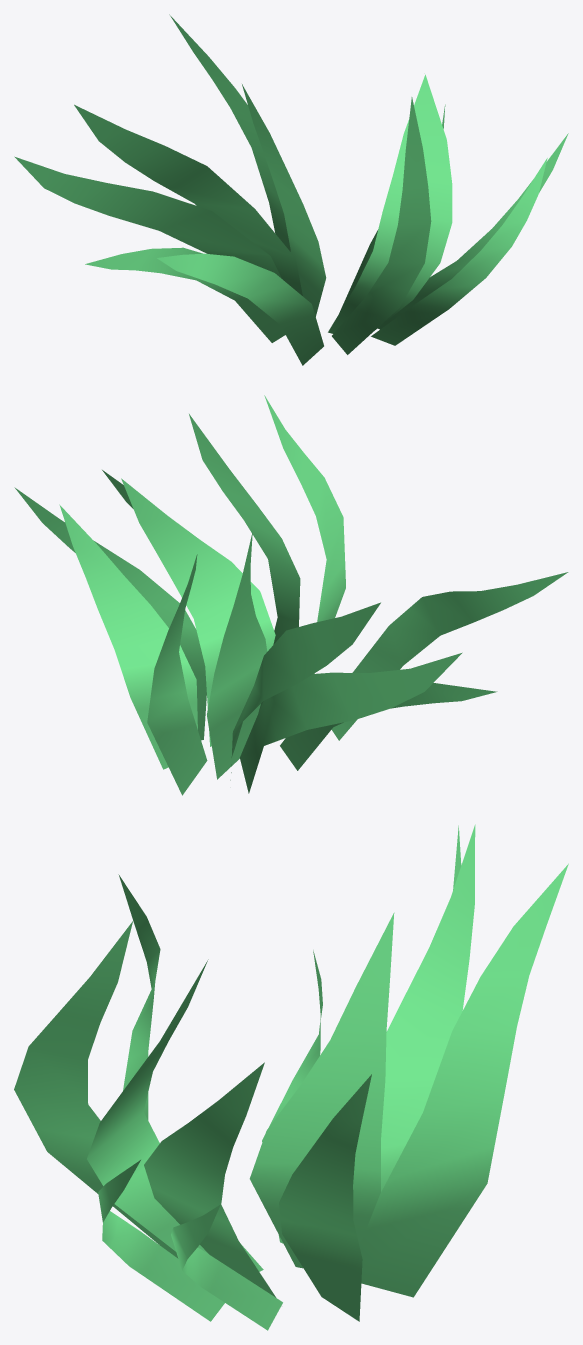
File: Grass03.fbx
The picture shows the model from 3 angles, top to bottom: view 1: azimuth 30°, elevation 25°; view 2: azimuth 150°, elevation 25°; view 3: azimuth 270°, elevation 25°; orthographic projection. The views are drawn at different scales.
Parts seen in each view (by area): view 1: Grass03_LOD0; view 2: Grass03_LOD0; view 3: Grass03_LOD0.
Part boxes in pixels (bbox=[...]): Grass03_LOD0: bbox=[14, 14, 568, 365]; Grass03_LOD0: bbox=[14, 395, 568, 795]; Grass03_LOD0: bbox=[14, 824, 568, 1330].
Size of what is drawn, in the model's own units: 125 by 69.17 by 87.64.
Materials: 1 (1 with a texture image).
